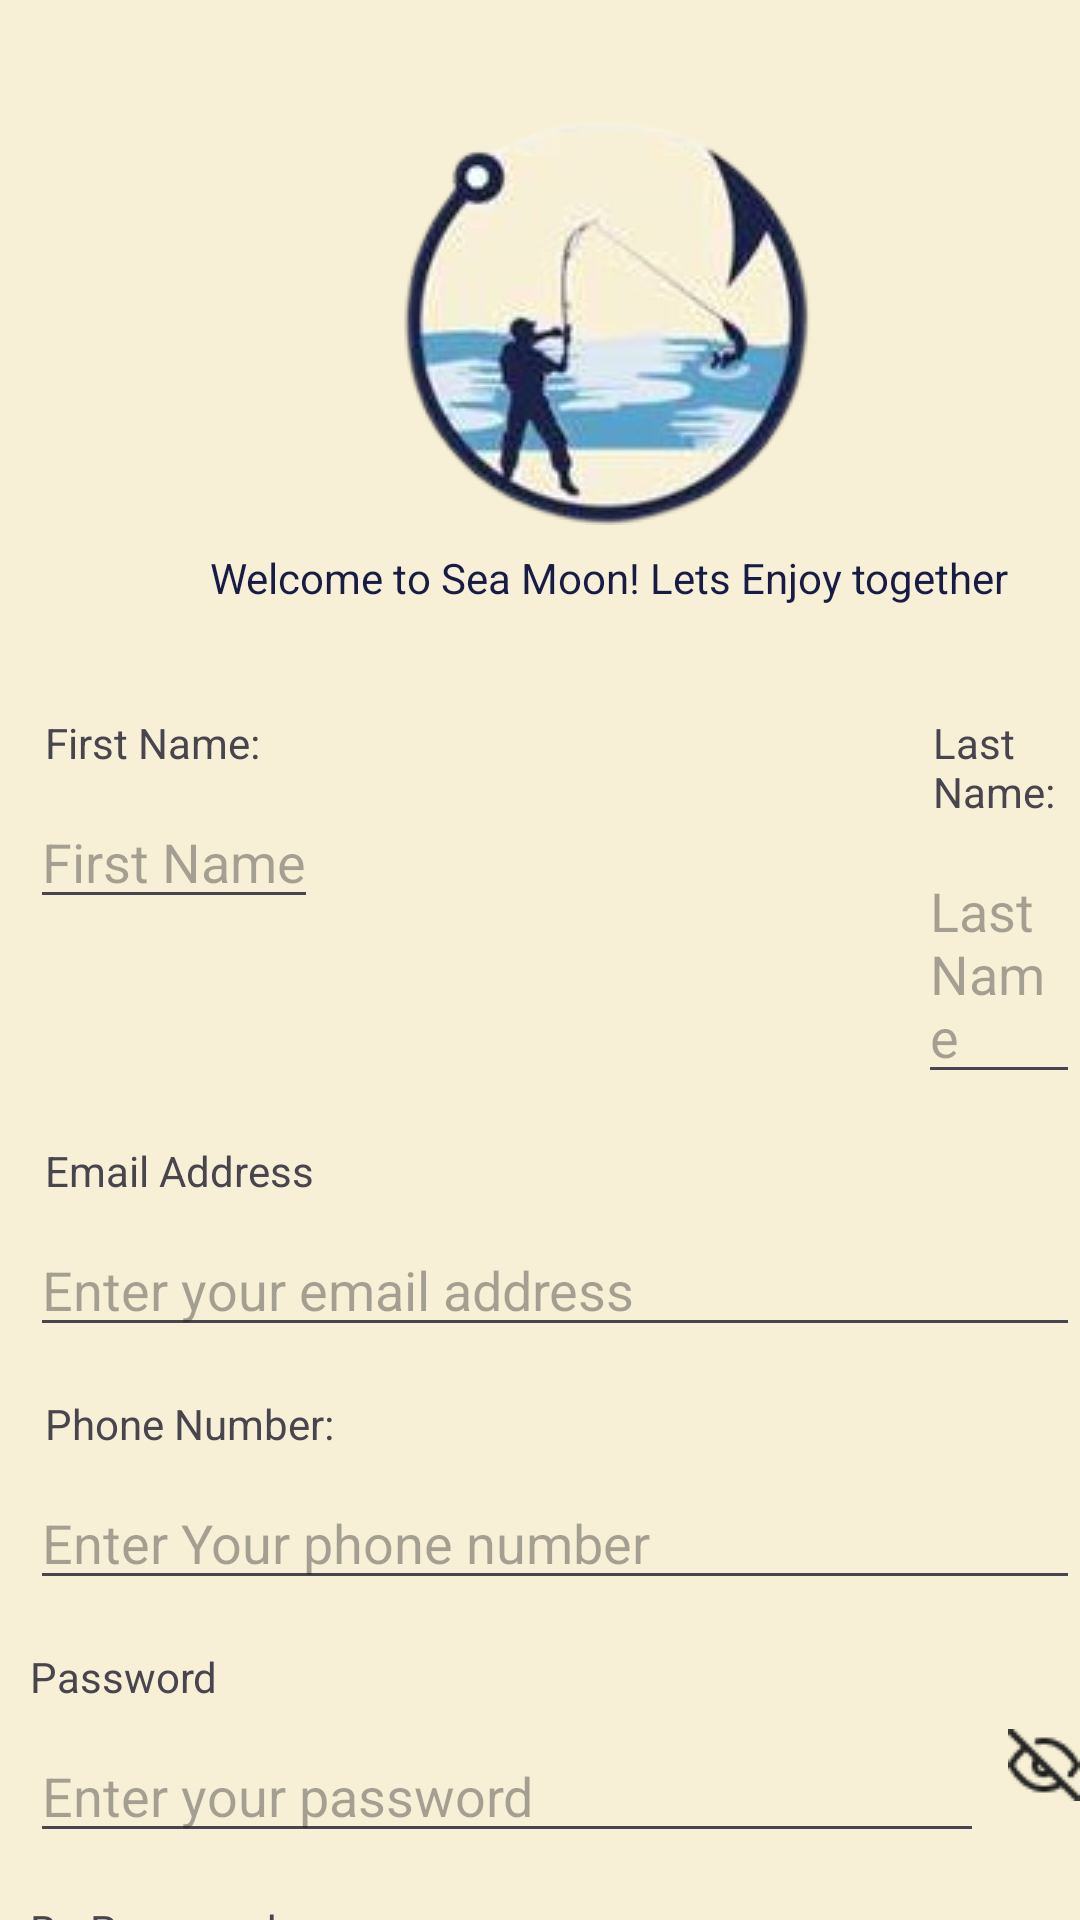

Icons on this 1080 × 1920 Android screen, each with its box as (x1, y1, x2, y2):
eyepassword: (1008, 1729, 1080, 1801)
